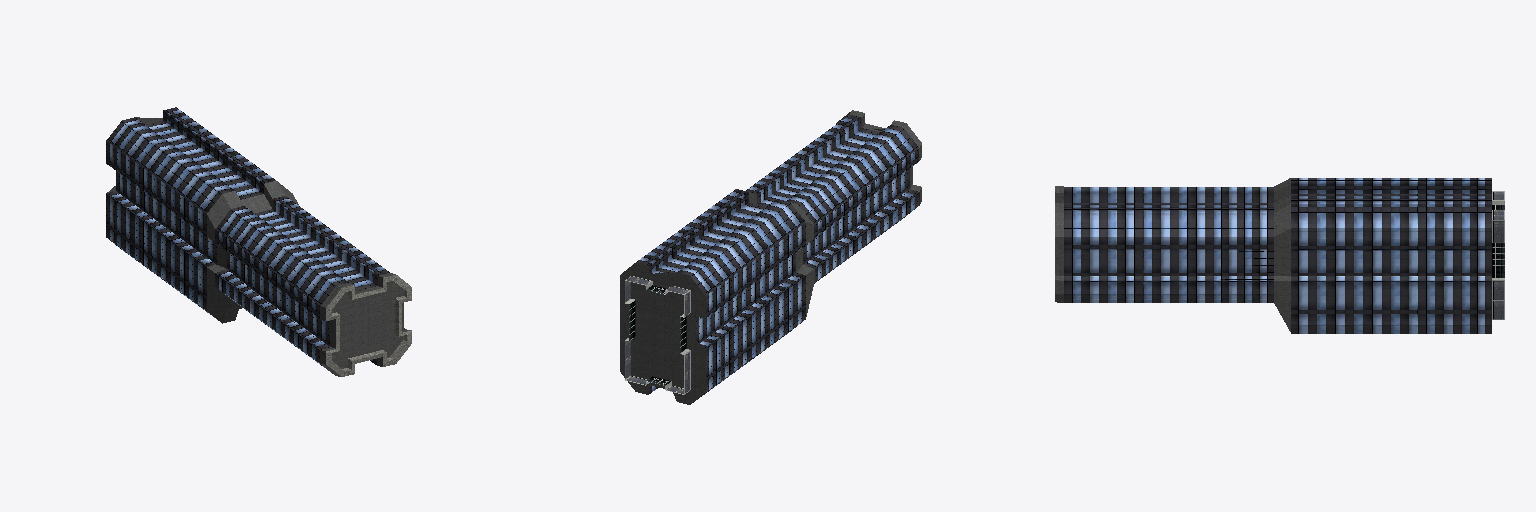
3 renders of one model, left to right at view 1: azimuth 30°, elevation 25°; view 2: azimuth 150°, elevation 25°; view 3: azimuth 270°, elevation 25°, orthographic.
Parts seen in each view (by area): view 1: Object18; view 2: Object18; view 3: Object18.
Boxes of the visible parts, x1=… form: Object18: x1=106, y1=107, x2=411, y2=376; Object18: x1=620, y1=110, x2=921, y2=404; Object18: x1=1055, y1=178, x2=1504, y2=333.
Size of the model in its own units: 45.54 by 64.62 by 204.
Materials: 5 (5 with a texture image).